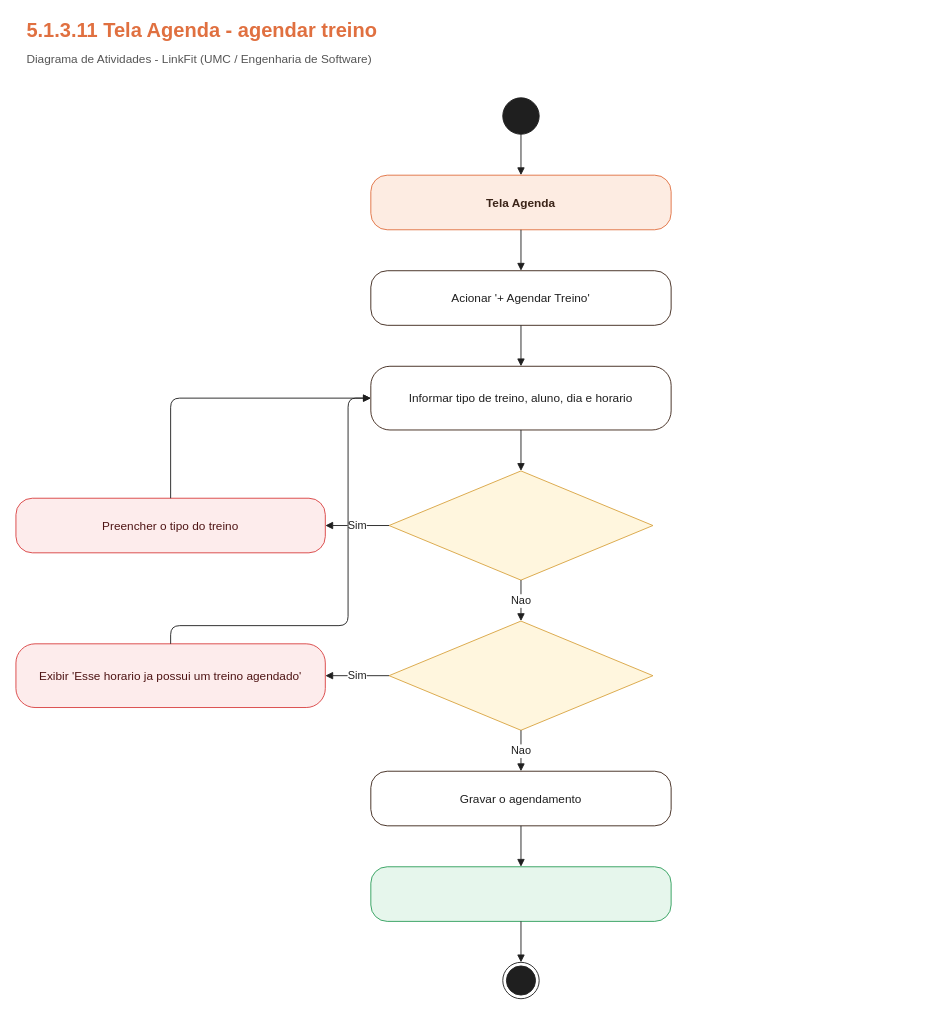
The diagram is 951 pixels wide and 1015 high, and some of its shapes have lost their labels. The shapes that lost their labels are listed below. From the top down, each one's centre as x and y in pixels, then its label:
At pixel 520 525: "Campo em branco?".
At pixel 520 675: "Horario ja ocupado?".
At pixel 520 893: "Treino agendado na grade semanal".
